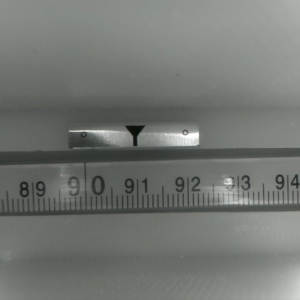0: (91, 175, 105, 195)
2: (190, 177, 200, 192)
3: (240, 175, 250, 190)
4: (289, 174, 299, 189)
8: (19, 181, 29, 197)
9: (67, 177, 80, 196), (35, 181, 45, 197), (174, 176, 184, 192), (274, 174, 284, 189), (128, 178, 137, 194), (224, 176, 234, 190)
finger: (122, 125, 145, 147)
